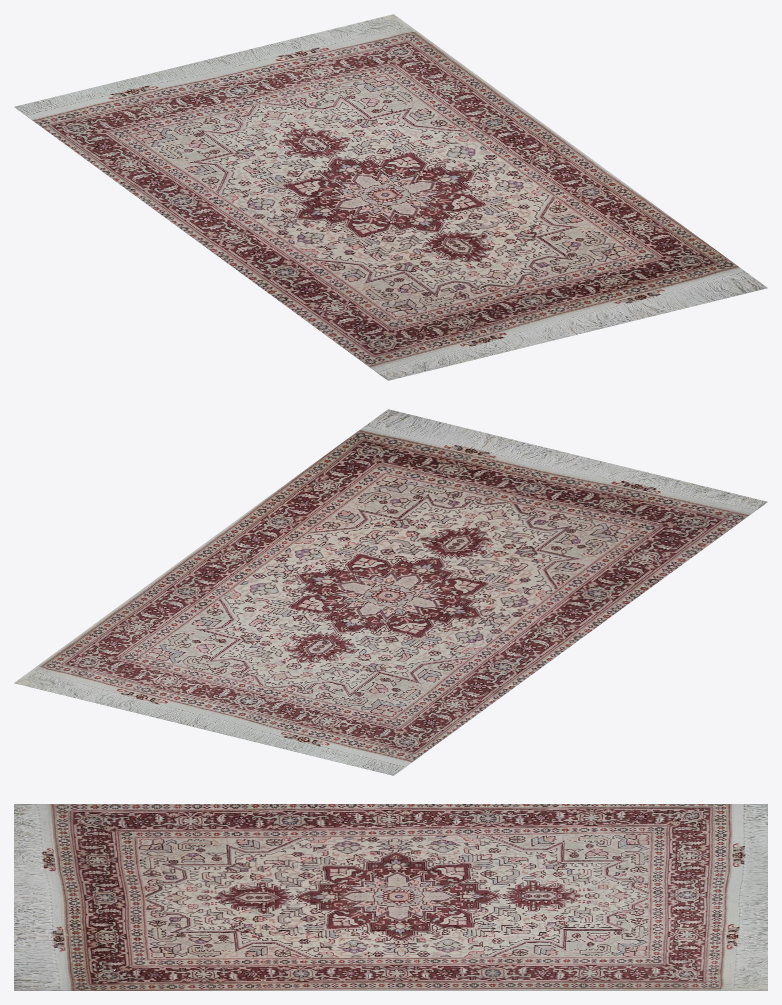
Rendered from gltf2.gltf.
3 renders of one model, top to bottom at view 1: azimuth 30°, elevation 25°; view 2: azimuth 150°, elevation 25°; view 3: azimuth 270°, elevation 25°, orthographic.
Bounding box in the file's own units: 1.4 × 0.000522 × 2.39.
Materials: 1 (1 with a texture image).
